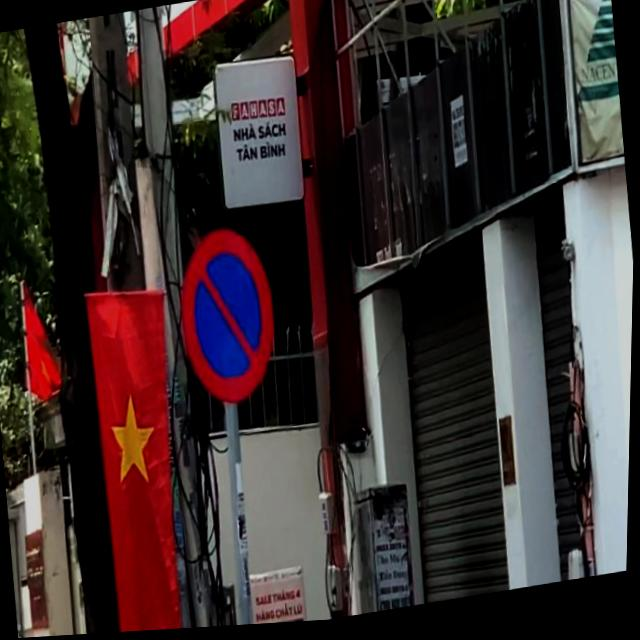Cam do xe: (173, 223, 286, 413)
